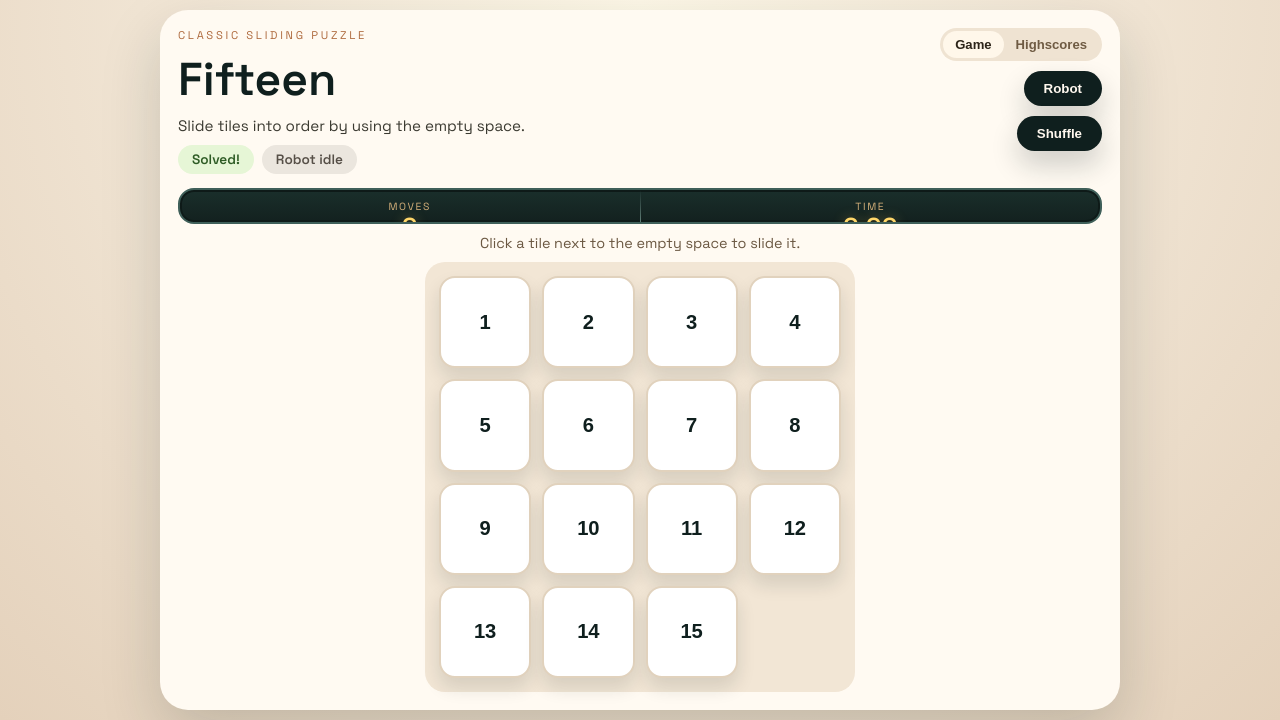
App fireworks › shows robot status transitions from idle to running to done
The width and height of the screenshot is (1280, 720).
expect the text "Robot idle" is shown: met, box [262,145,357,174]
What coordinates should you click on to do the following:
click the button "Robot"
I would click on:
 (1063, 88)
Its box is [1024,71,1102,106].
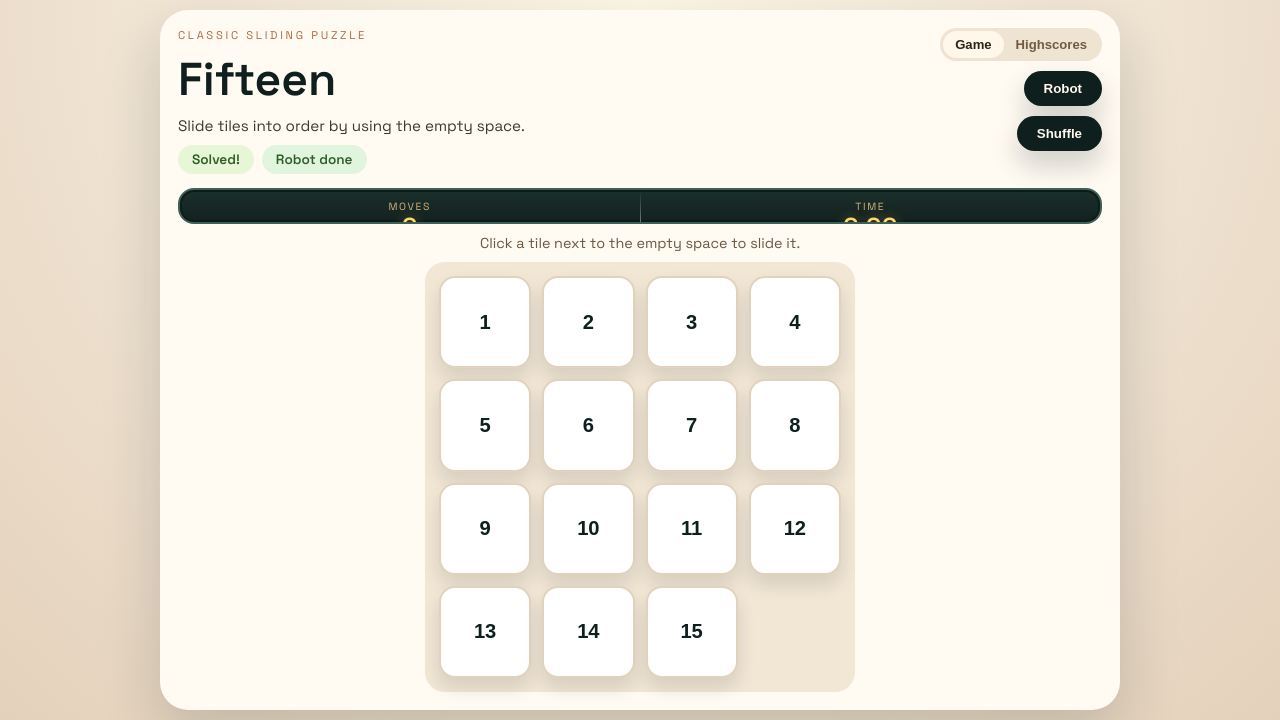
expect the text "Robot done" is shown: met, box [262,145,366,174]
